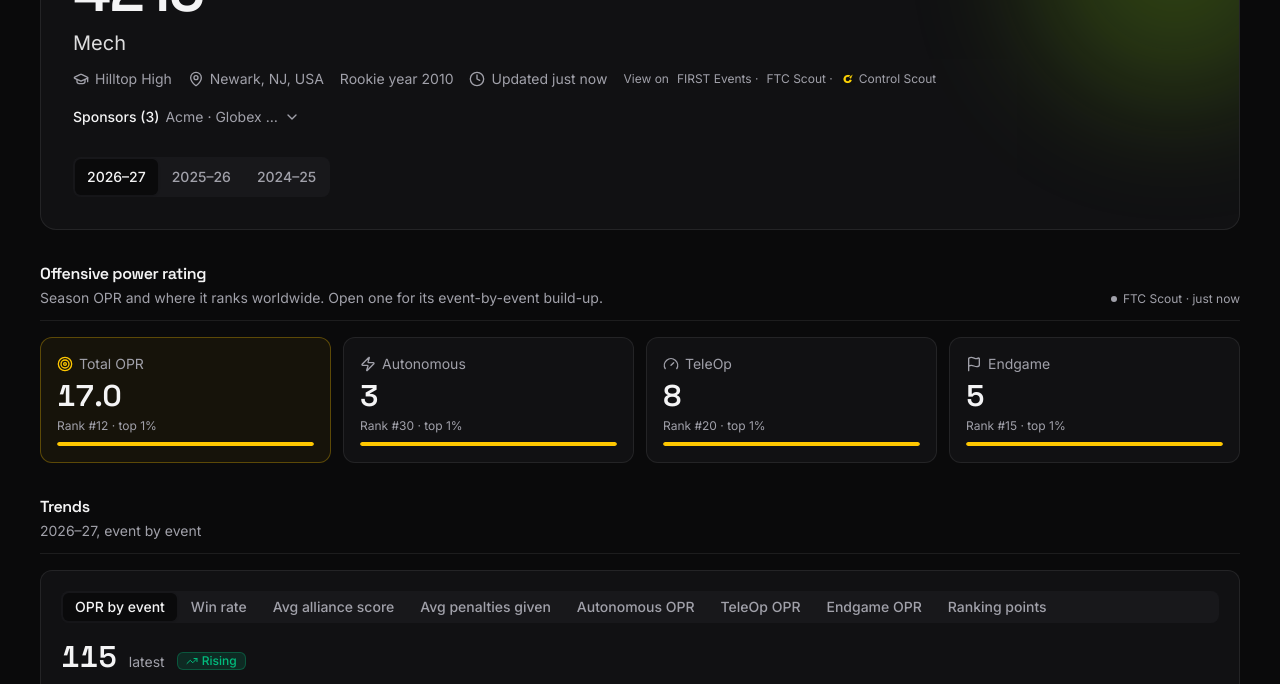
Modern Team Stats · Compete › opens the OPR breakdown with each event against its average
(page scrolled)
Click the button with aria-label "Total OPR: 120.4": (111, 364) [40,337,331,463]
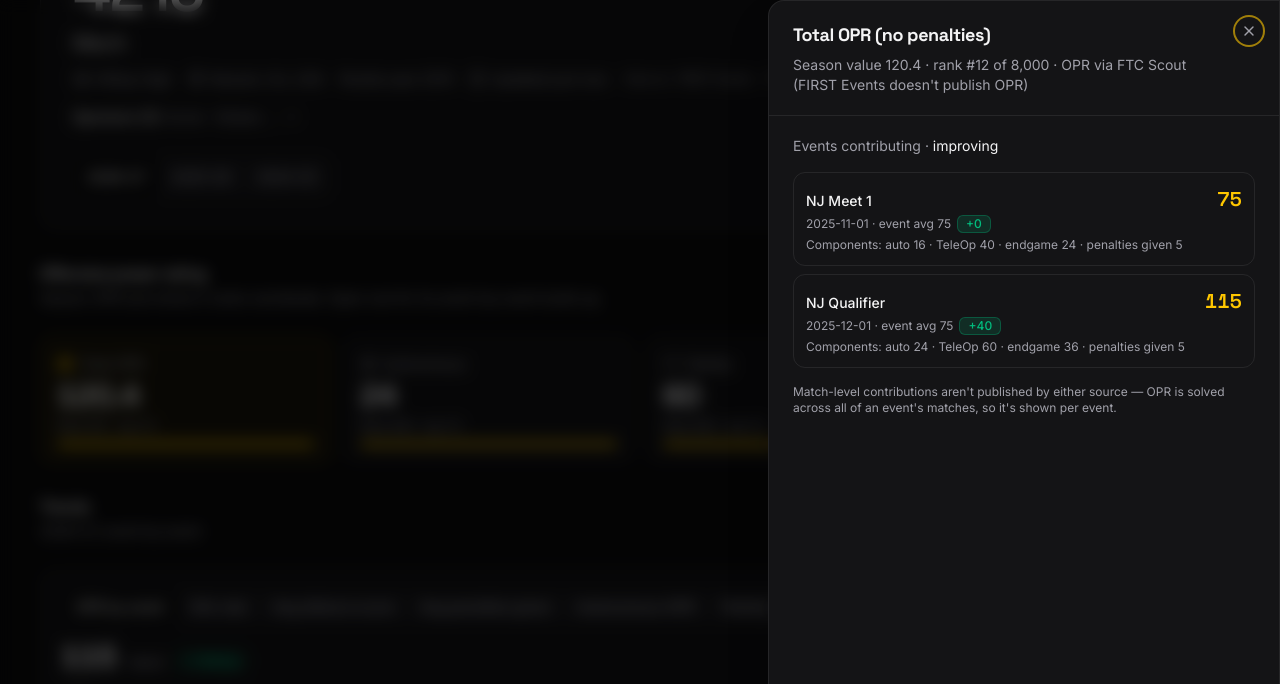
Now the heading "Total OPR (no penalties)" is shown, box [793,23,990,46]
Now the text "rank #12 of 8,000" is shown, box [793,55,1231,95]
